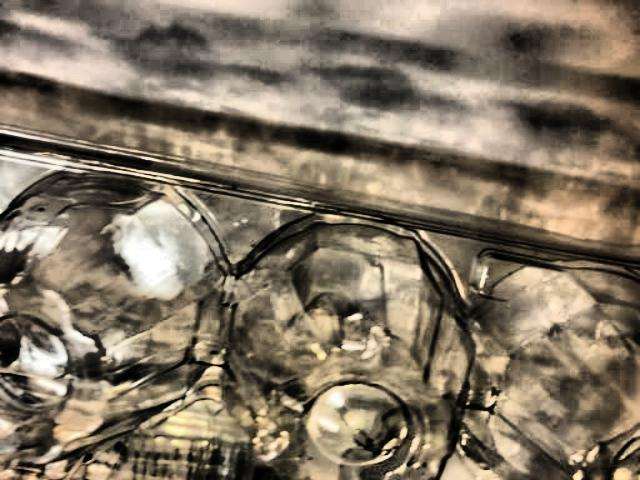Plastic: (0, 10, 640, 480)
